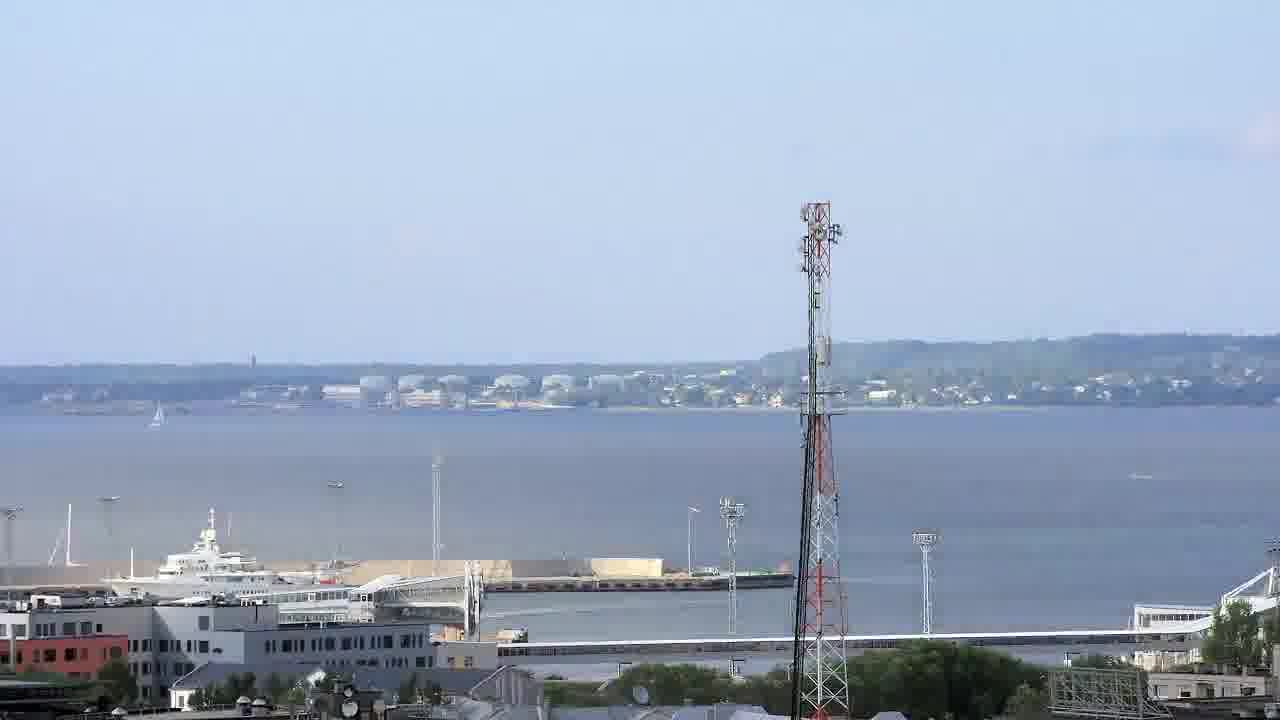type-2: (136, 389, 180, 446)
type-3: (88, 507, 346, 605)
